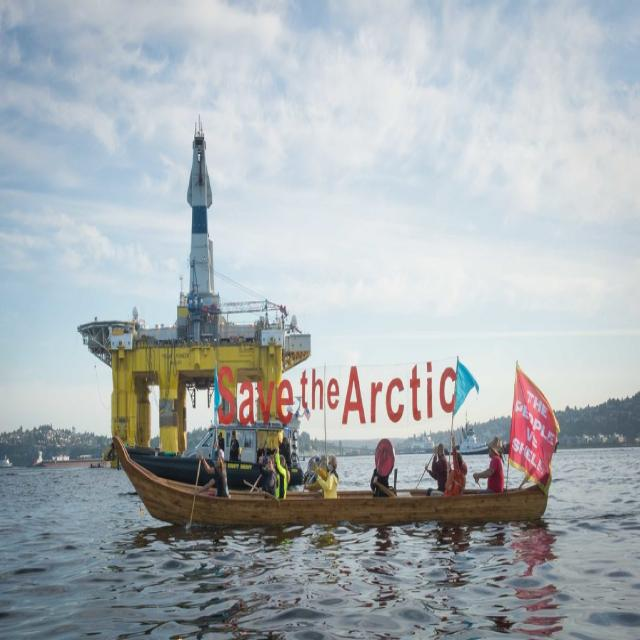Boat: (84, 138, 526, 521)
